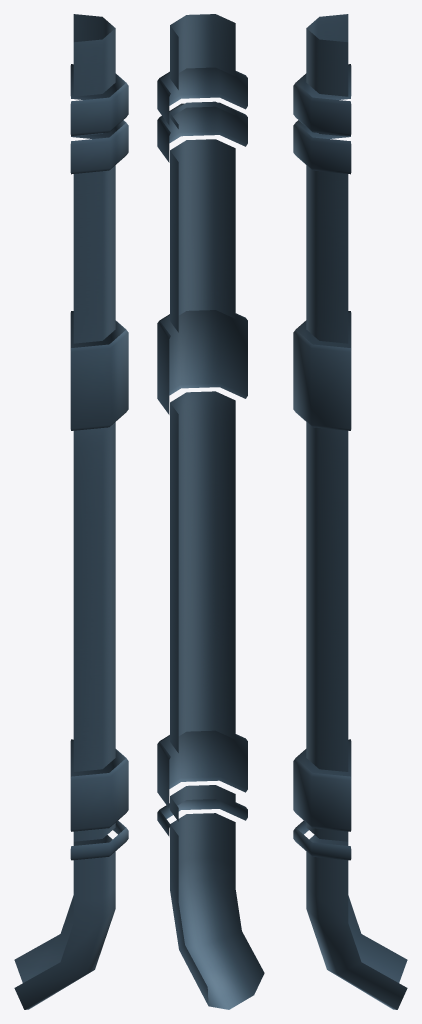
The model's file is SM_pipe_01.FBX.
3 views of the same model, side by side, from view 1: azimuth 90°, elevation 25°; view 2: azimuth 210°, elevation 25°; view 3: azimuth 270°, elevation 25° (orthographic).
Parts seen in each view (by area): view 1: pipe01; view 2: pipe01; view 3: pipe01.
Part boxes in pixels (x1=…): pipe01: x1=14, y1=14, x2=128, y2=1009; pipe01: x1=157, y1=14, x2=264, y2=1009; pipe01: x1=293, y1=14, x2=407, y2=1009.
Size of the model in its own units: 155 by 1817 by 192.
Materials: 1 (1 with a texture image).
